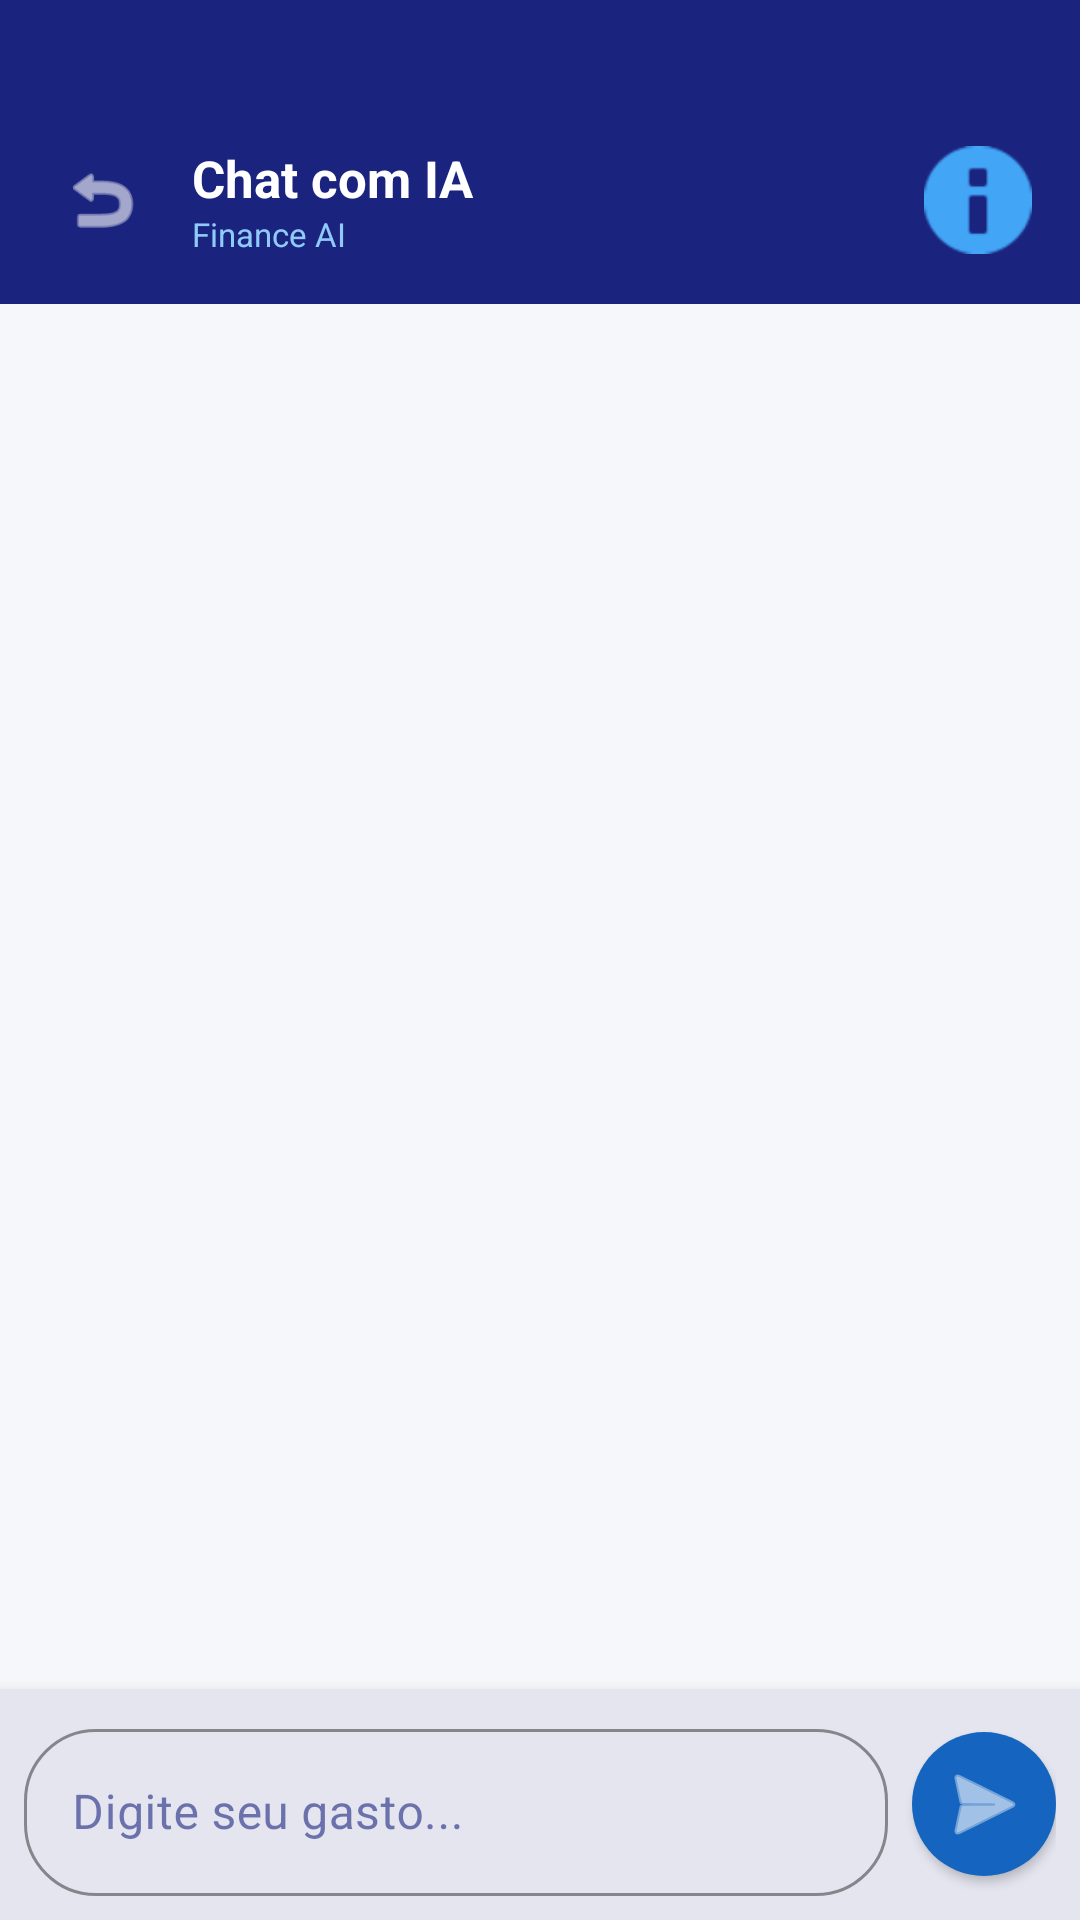

Where to tap for icons on this 1080px x 1920px app screen, as [x,y]:
info: [978,200]
revert: [103,200]
send: [984,1804]
